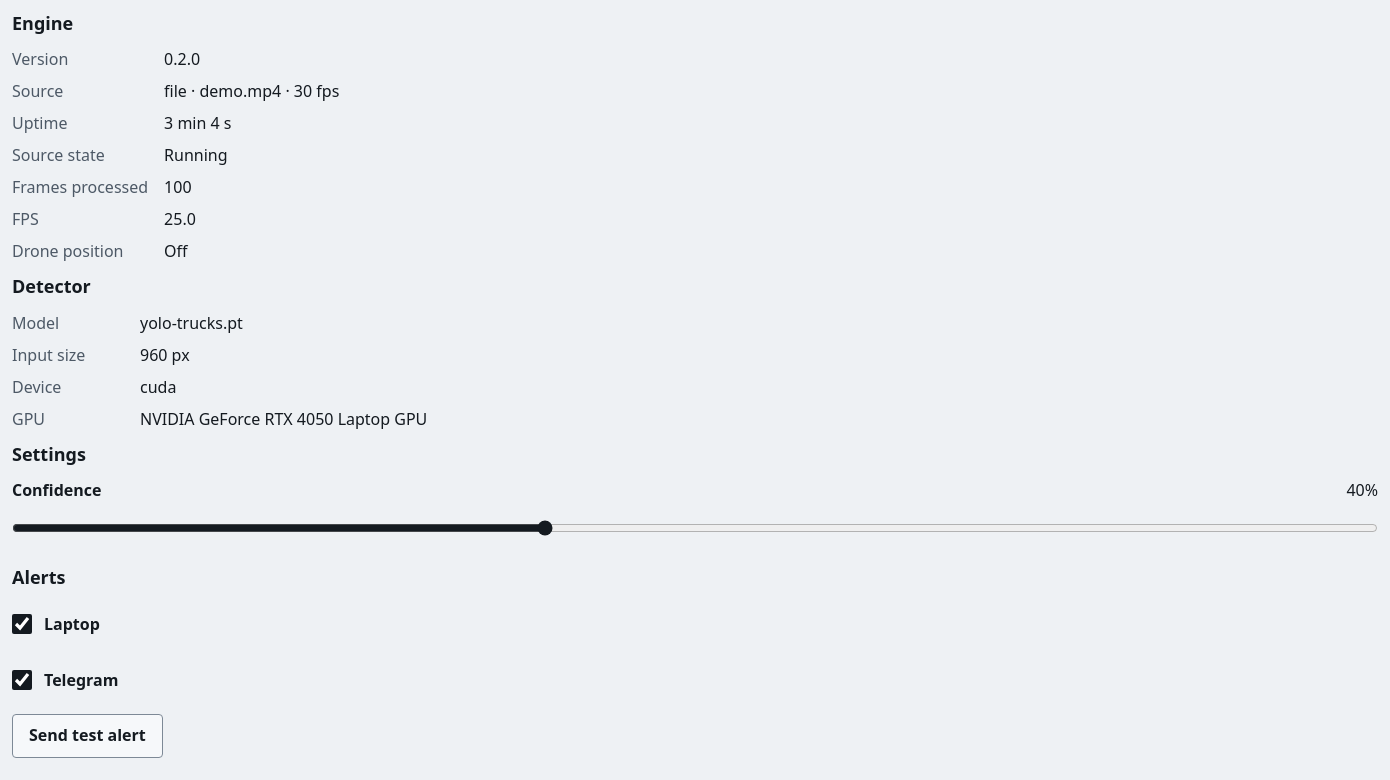
Test case: toggling two channels at once does not clobber either
Click the switch labelled "Laptop". click: (22, 624)
box: [12, 614, 32, 634]
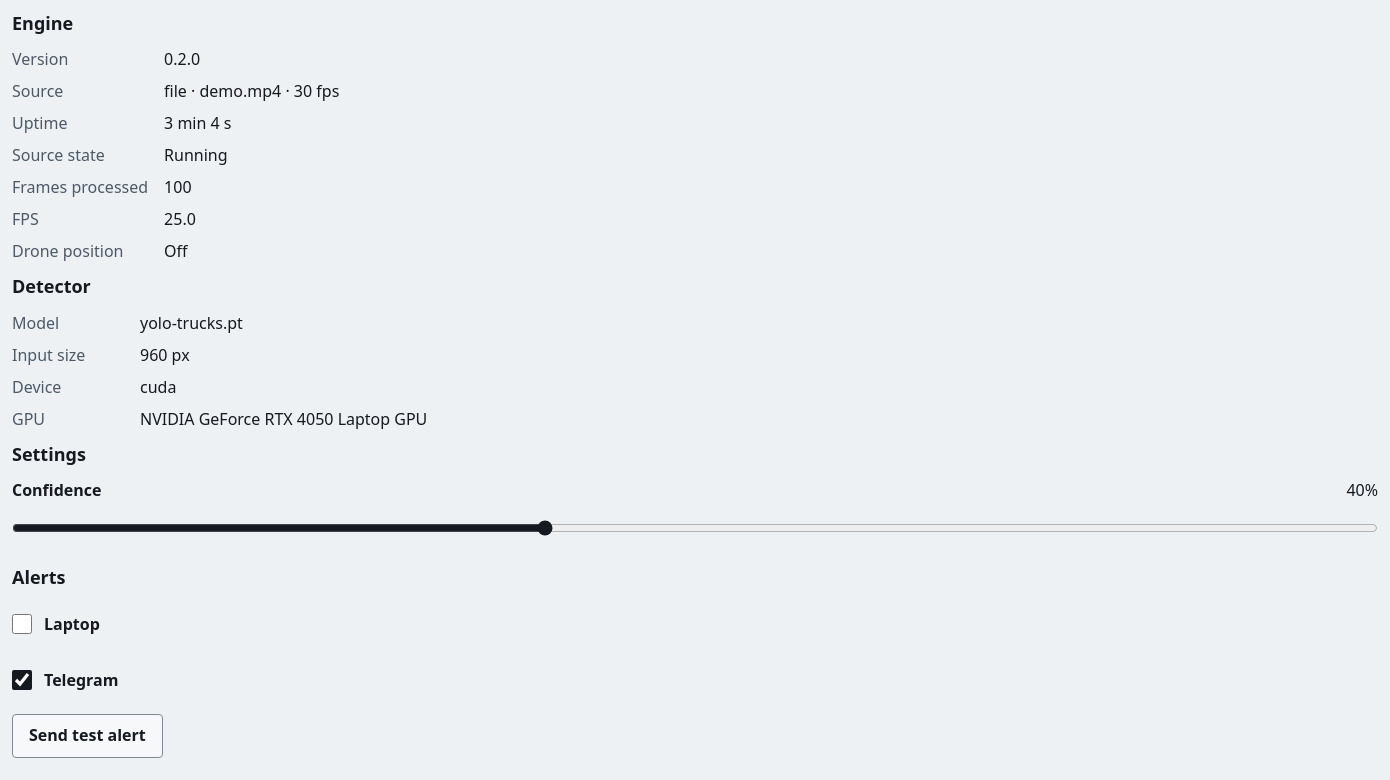
Click the switch labelled "Telegram". click: (22, 680)
box: [12, 670, 32, 690]
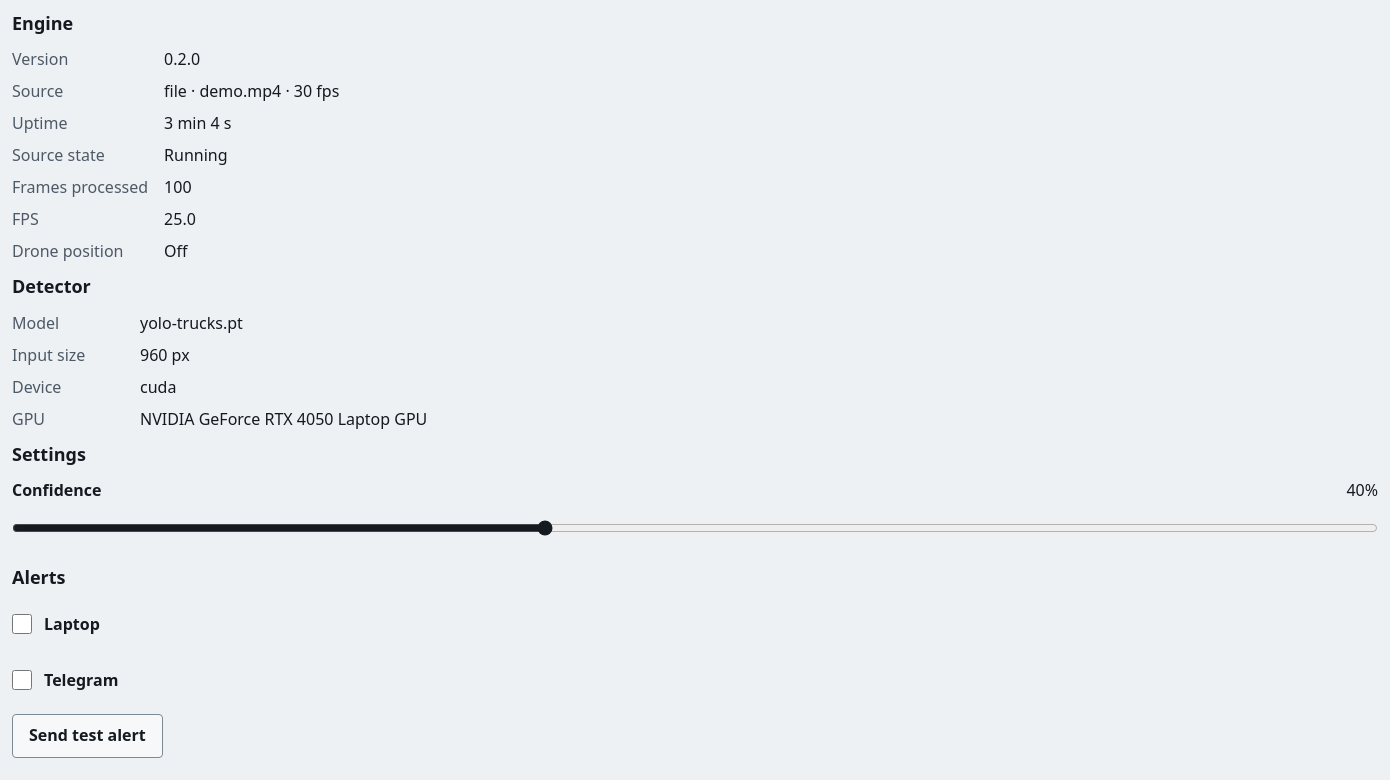
Result: the switch labelled "Laptop" is not checked at [12, 614, 32, 634]
Result: the switch labelled "Telegram" is not checked at [12, 670, 32, 690]
